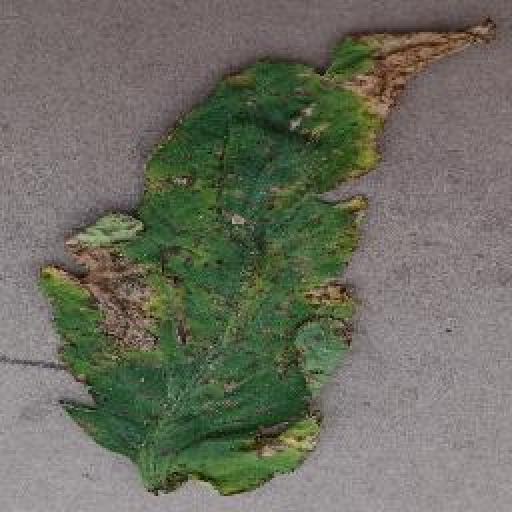Bacterial Spot: (34, 11, 500, 500)
